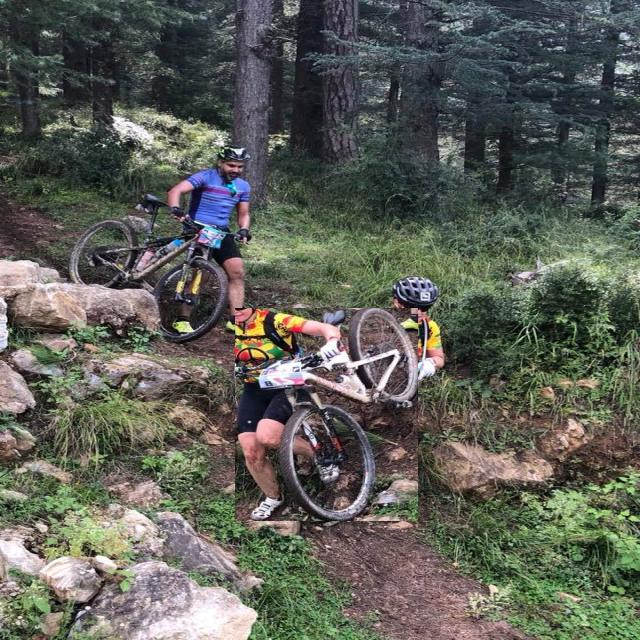bicycle: (235, 309, 418, 521), (68, 194, 233, 341)
